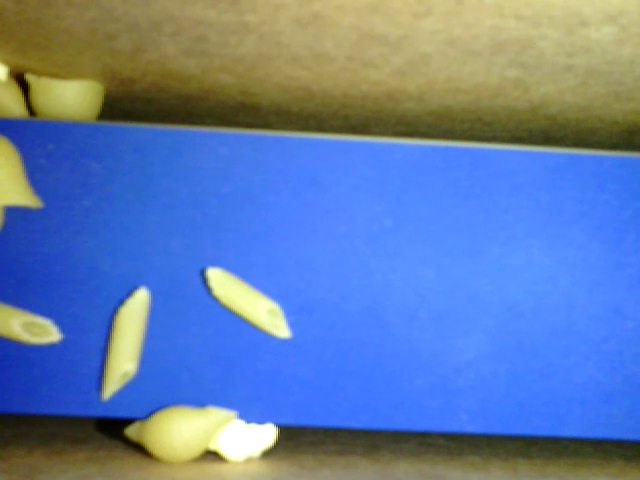penne: (202, 263, 292, 339), (101, 283, 152, 401), (1, 305, 65, 348)
shell: (124, 403, 243, 462), (24, 74, 105, 124), (1, 128, 45, 210)
